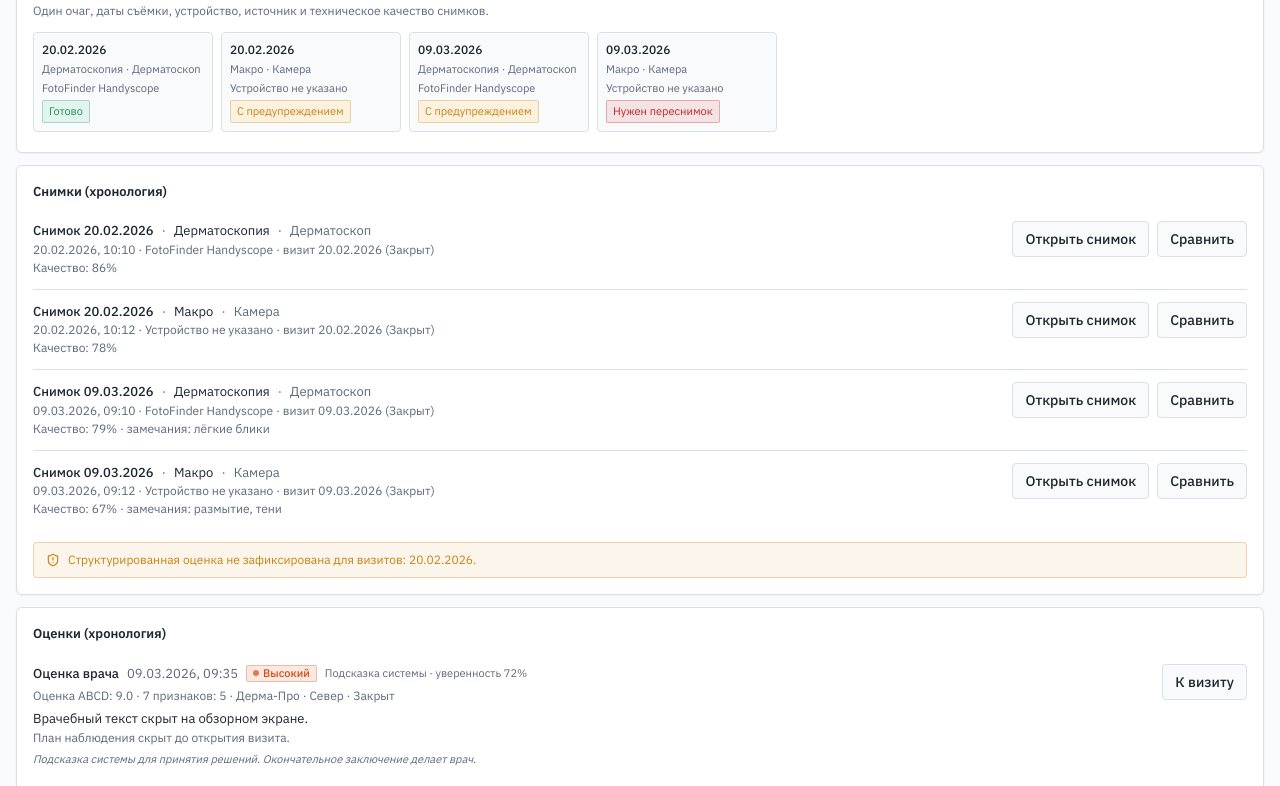
Test: LesionDetailPage › показывает связь данных, ленту дат и предупреждение о несопоставимых снимках
(page scrolled)
expect the 1st text "С предупреждением" is shown: met, box [230,100,351,122]
What coordinates should you click on to do the following:
click the button "Сравнить" in the row of "09.03.2026, 09:10"
I would click on:
 (1202, 400)
Its box is [1157,382,1247,418].
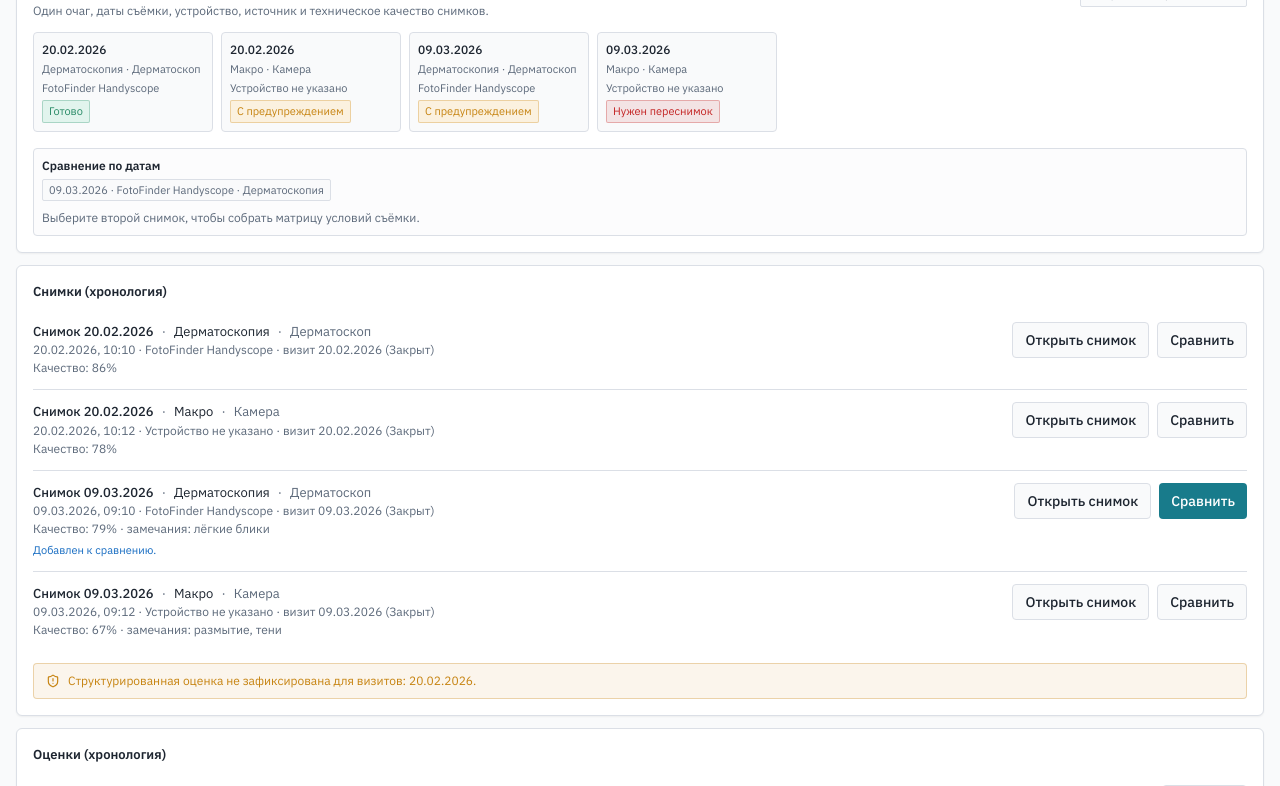
What coordinates should you click on to do the following:
click the button "Сравнить" in the row of "09.03.2026, 09:12"
I would click on:
 (1202, 602)
Its box is [1157,584,1247,620].
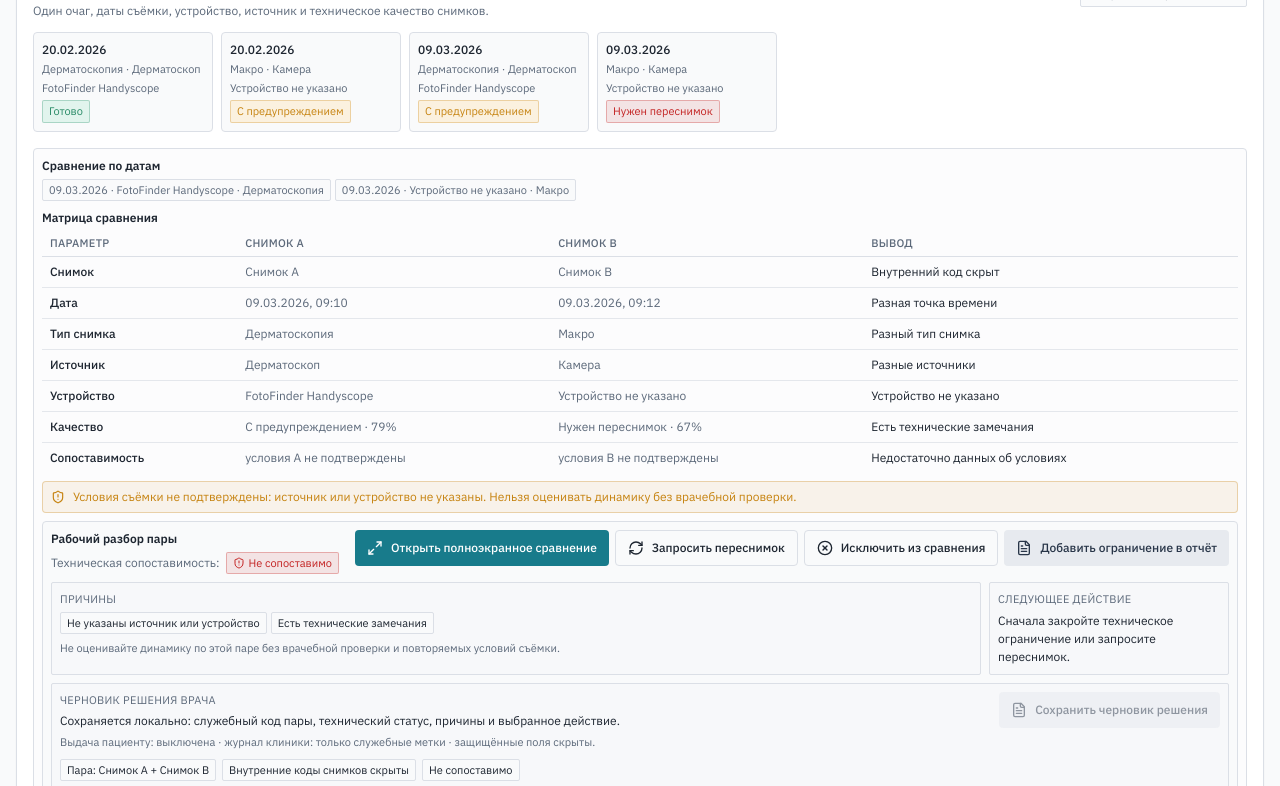
expect the text "Сравнение по датам" is shown: met, box [42,158,160,172]
expect the text "Условия съёмки не подтверждены" is shown: met, box [73,488,486,504]
